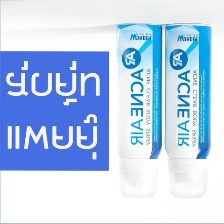aerosol_cans: (162, 20, 216, 202), (111, 20, 164, 199)
